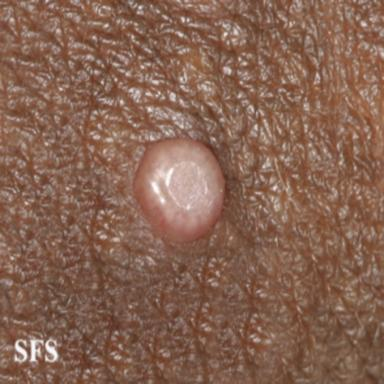Molluscum-Contagiosum: (135, 138, 225, 241)
